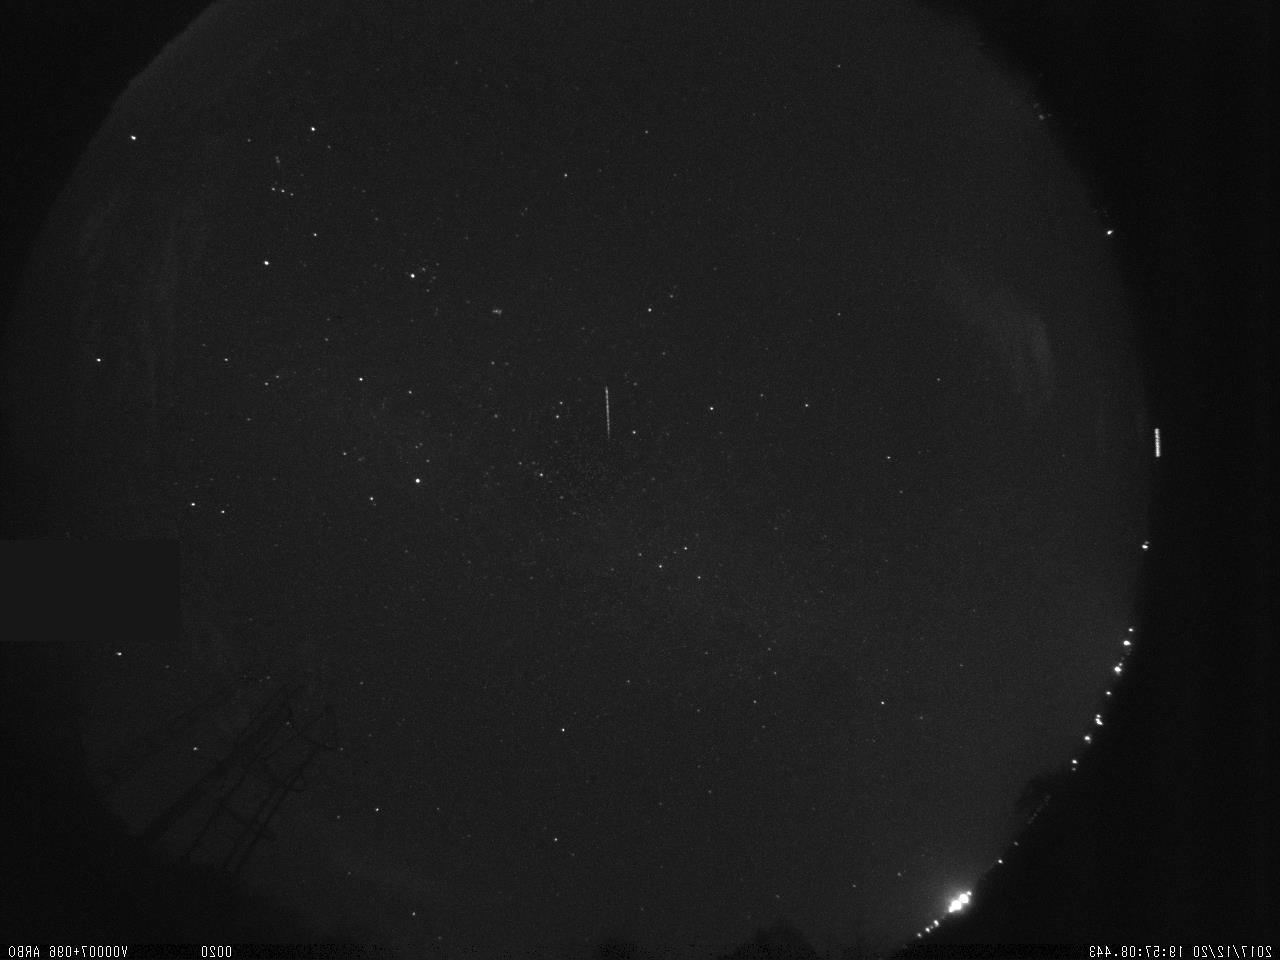meteor: (598, 376, 621, 445)
